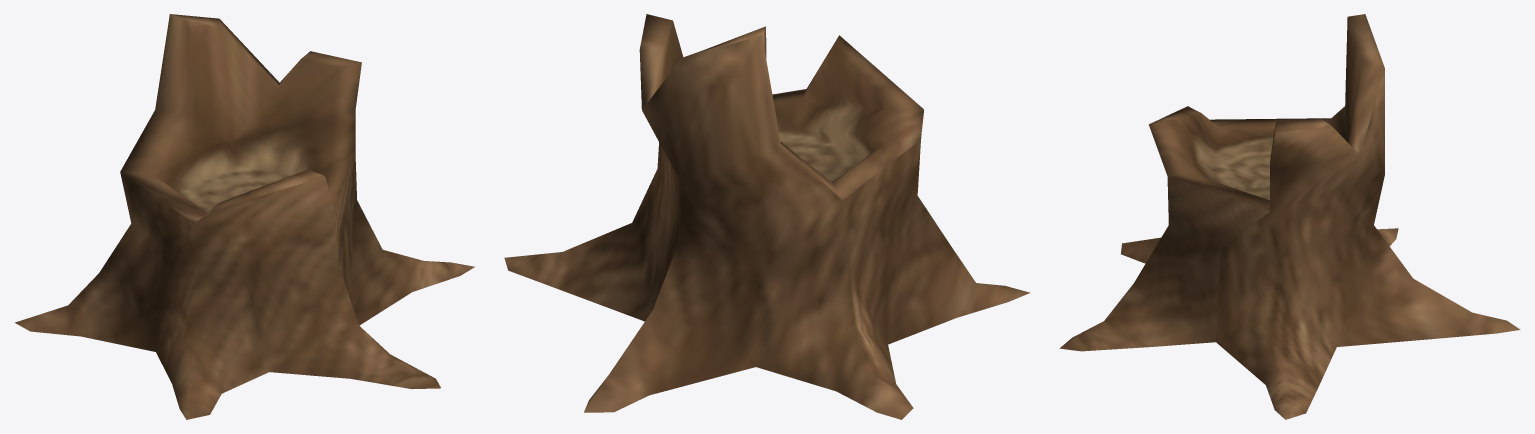
Rendered from e_tree_5.FBX.
The picture shows the model from 3 angles, left to right: view 1: azimuth 30°, elevation 25°; view 2: azimuth 150°, elevation 25°; view 3: azimuth 270°, elevation 25°; orthographic projection. The views are drawn at different scales.
Parts seen in each view (by area): view 1: Object015; view 2: Object015; view 3: Object015.
Boxes of the visible parts, <box> form: Object015: <box>15,14,474,419</box>; Object015: <box>504,14,1030,419</box>; Object015: <box>1059,14,1520,419</box>.
Bounding box in the file's own units: 51.14 × 52.04 × 34.95.
